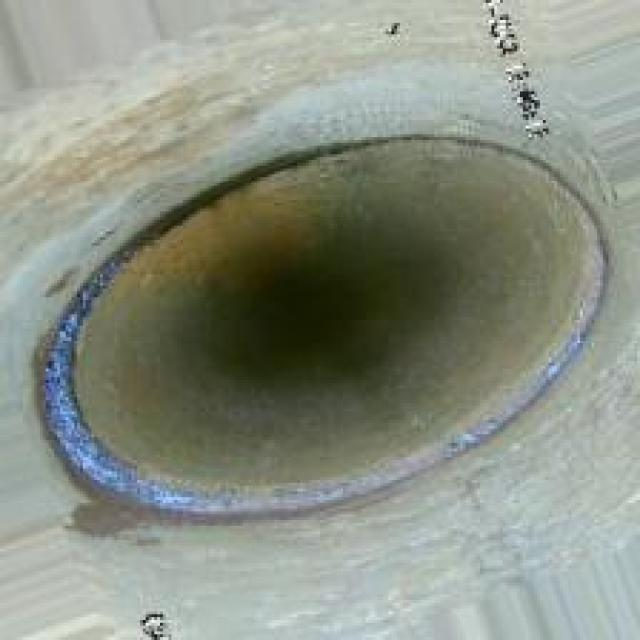joint: (29, 120, 614, 526)
